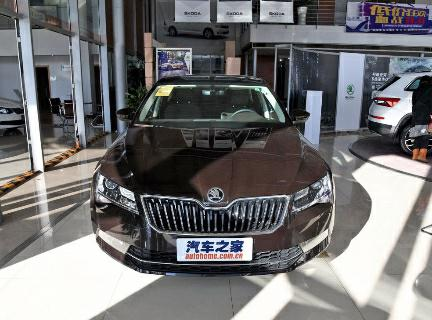斯柯达-速派: (88, 74, 341, 278)
